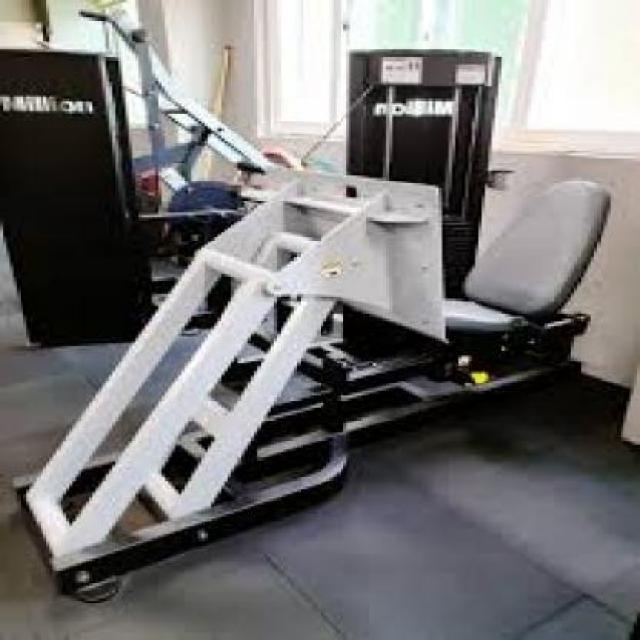leg press: (0, 45, 640, 606)
